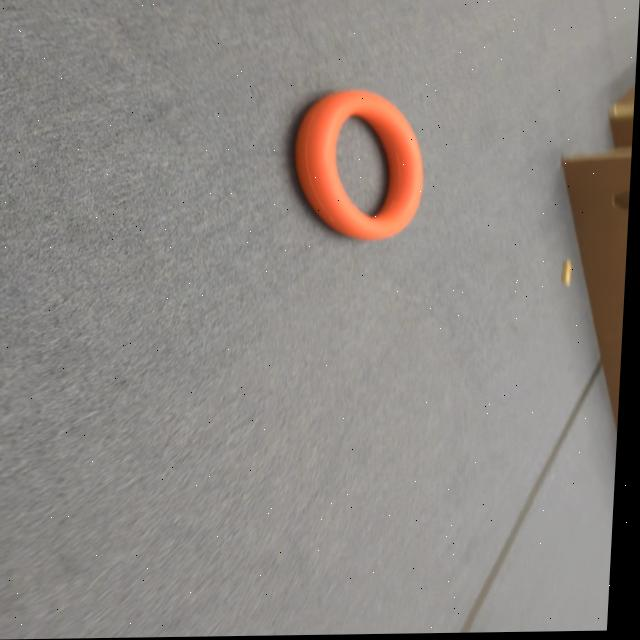note: (289, 88, 427, 241)
